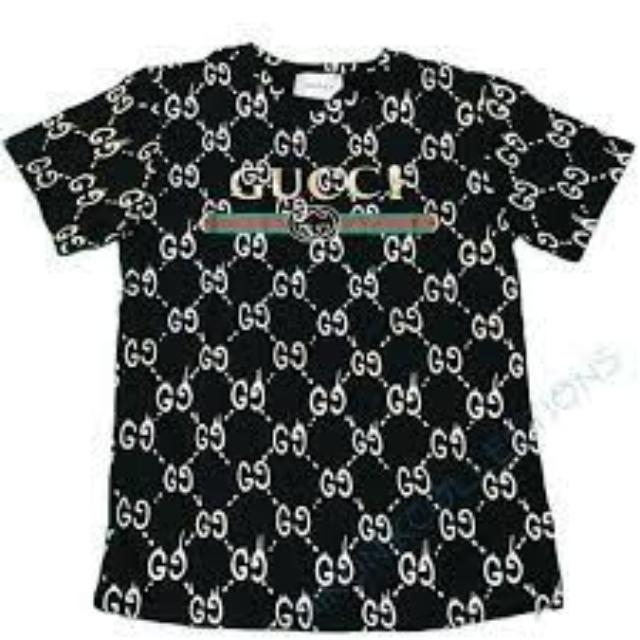Gucci: (217, 155, 425, 205), (288, 204, 346, 246)
